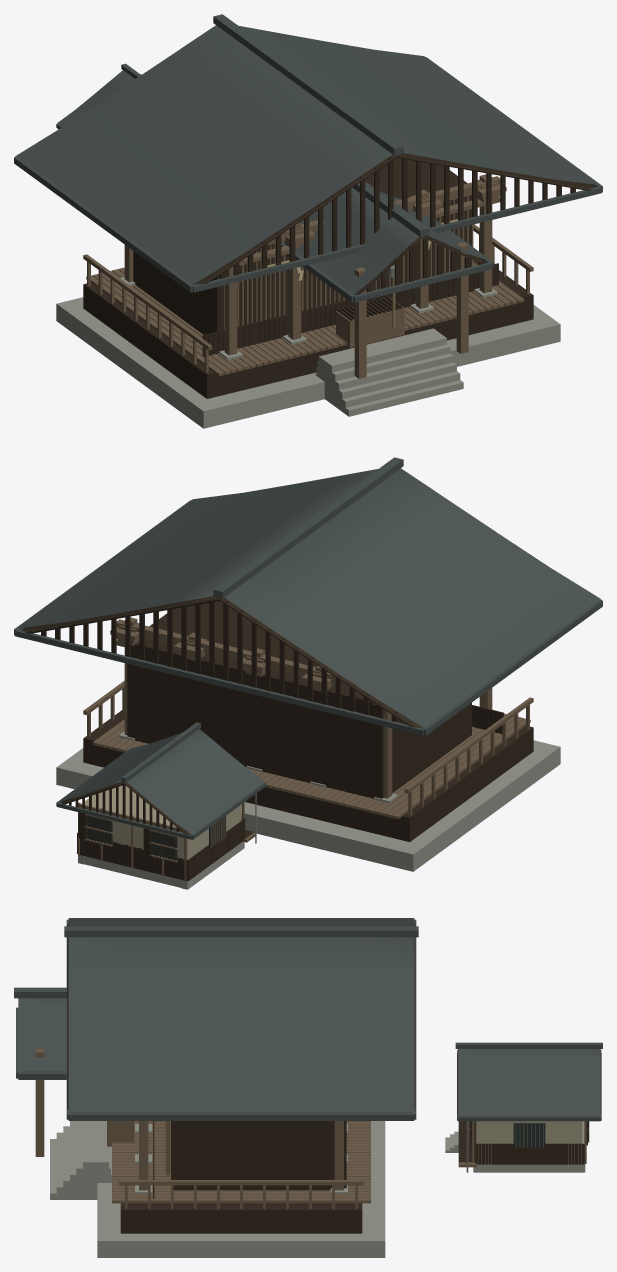
Rendered from shrine-low.glb.
3 views of the same model, one above another, from view 1: azimuth 30°, elevation 25°; view 2: azimuth 150°, elevation 25°; view 3: azimuth 270°, elevation 25° (orthographic). The views are drawn at different scales.
Parts seen in each view (by area): view 1: roof, darkwood, wood, stone; view 2: roof, darkwood, wood, stone, plaster, glass; view 3: roof, darkwood, stone, wood, plaster, glass.
Boxes of the visible parts, bbox=[...] form: roof: bbox=[14, 14, 602, 302]; darkwood: bbox=[83, 153, 595, 398]; wood: bbox=[83, 174, 533, 378]; stone: bbox=[56, 277, 560, 428]; roof: bbox=[14, 457, 602, 839]; darkwood: bbox=[21, 596, 533, 881]; wood: bbox=[78, 617, 533, 881]; stone: bbox=[56, 731, 560, 889]; plaster: bbox=[81, 785, 241, 859]; glass: bbox=[87, 816, 224, 860]; roof: bbox=[14, 918, 602, 1121]; darkwood: bbox=[20, 924, 601, 1233]; stone: bbox=[50, 1121, 585, 1257]; wood: bbox=[35, 1049, 589, 1209]; plaster: bbox=[476, 1121, 582, 1163]; glass: bbox=[513, 1123, 545, 1147].
Bounding box in the file's own units: 16.17 × 9.36 × 20.46.
